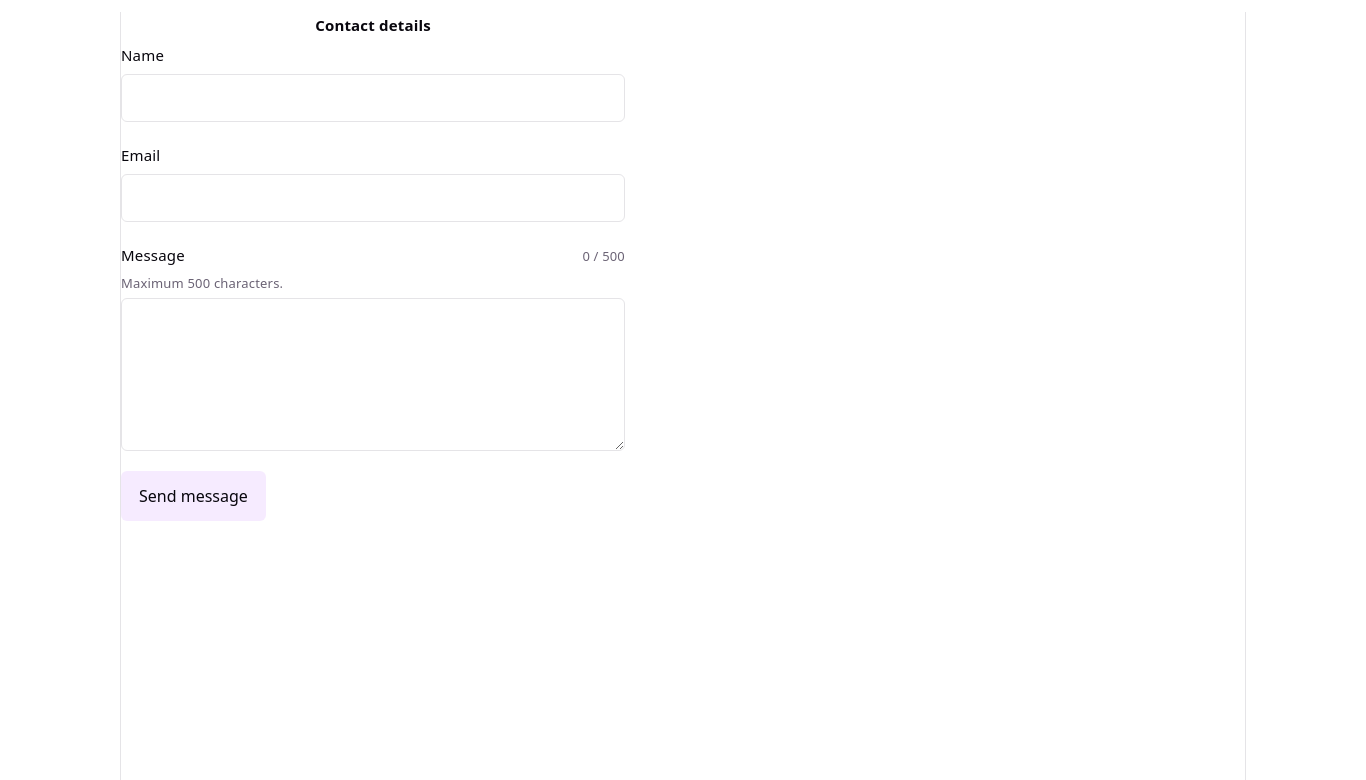
Test case: ContactForm › clears a field error when the user edits that field
Step 1. Click the button "Send message" → (193,496), box [121,471,266,521]
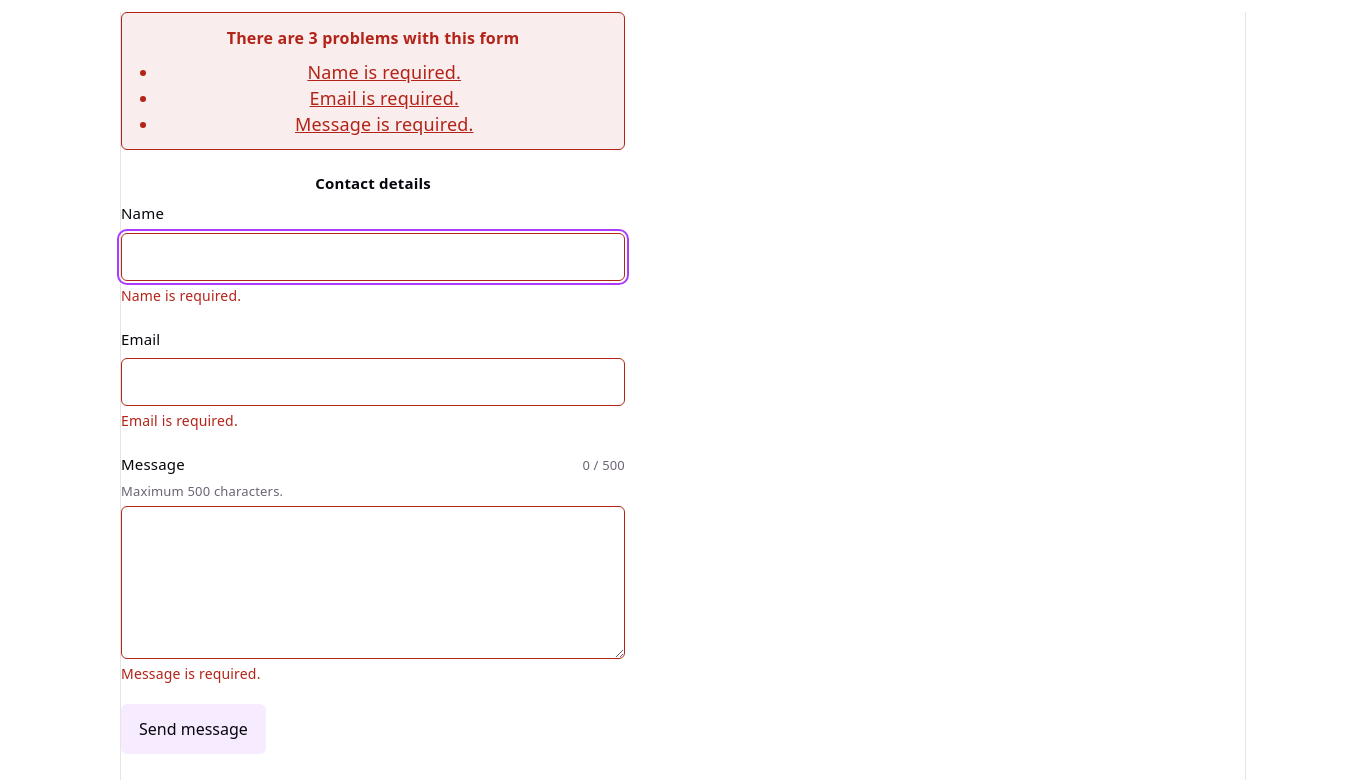
expect the text "Name is required." is shown: met, box [121,286,241,305]
Step 2. Type "Ada" into the field labelled "Name" → (373,257), box [121,233,625,281]
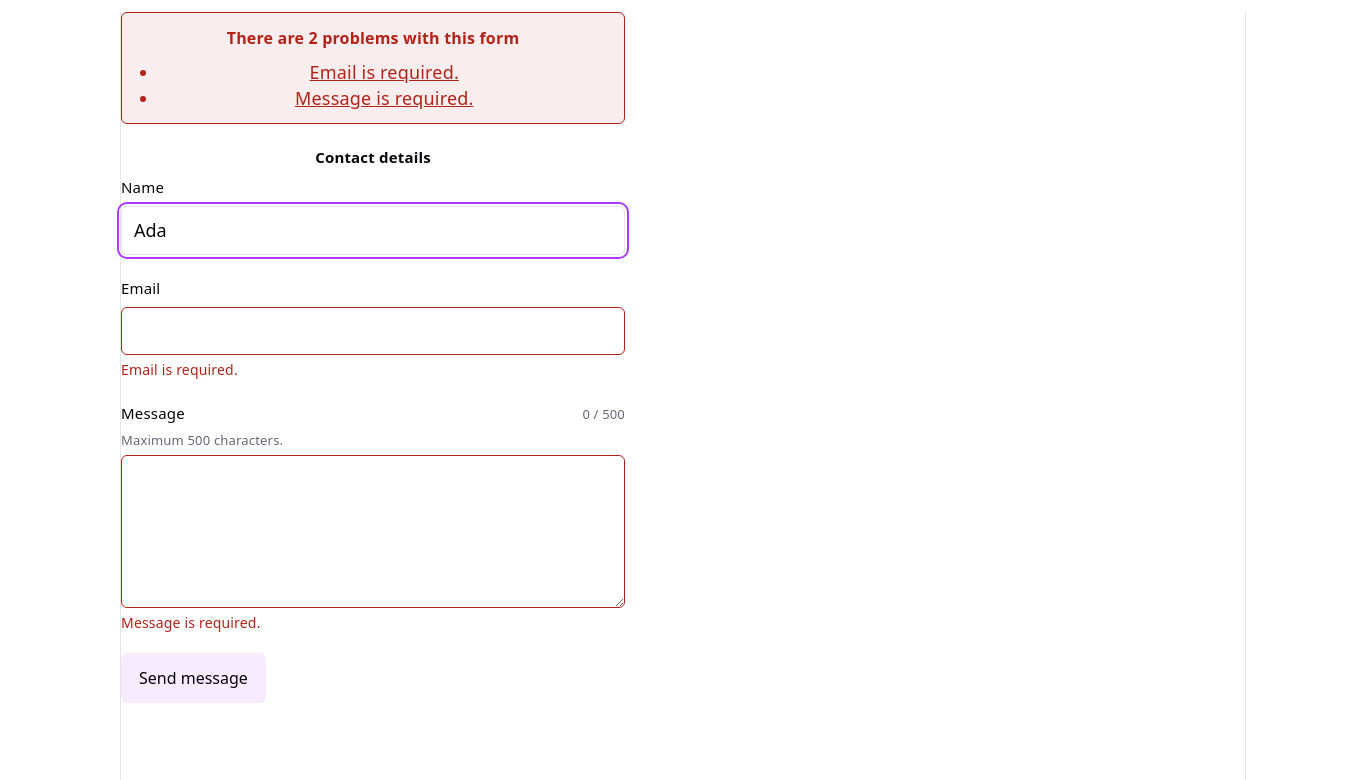
expect no links "Name is required." are shown: met
